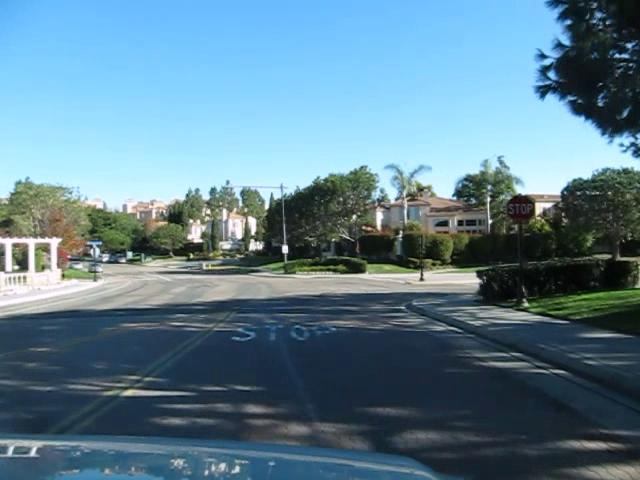stop: (506, 193, 536, 224)
